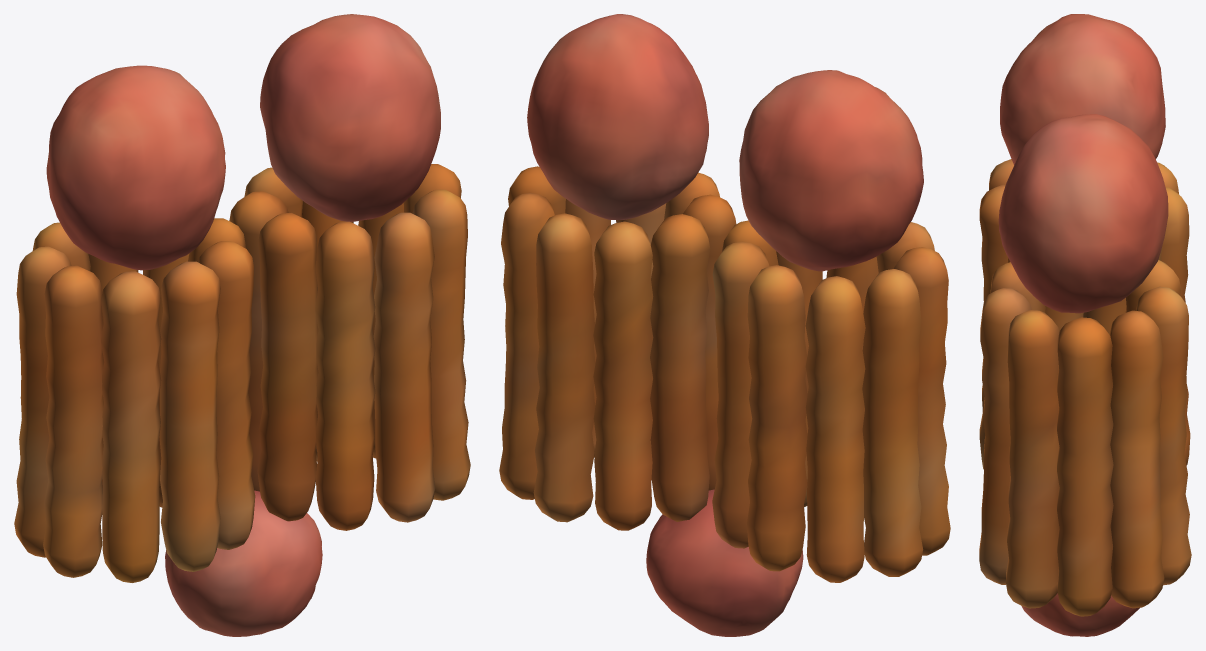
Rendered from etc-complex-3.glb.
3 renders of one model, left to right at view 1: azimuth 30°, elevation 25°; view 2: azimuth 150°, elevation 25°; view 3: azimuth 270°, elevation 25°, orthographic. The views are drawn at different scales.
Visible parts, largest first — view 1: etc-complex-3-transmembrane, etc-complex-3-lobes; view 2: etc-complex-3-transmembrane, etc-complex-3-lobes; view 3: etc-complex-3-transmembrane, etc-complex-3-lobes.
Boxes of the visible parts, box(x1,y1,x2,y2) form: etc-complex-3-transmembrane: box(14, 164, 470, 582); etc-complex-3-lobes: box(46, 14, 440, 636); etc-complex-3-transmembrane: box(499, 166, 950, 582); etc-complex-3-lobes: box(527, 14, 923, 636); etc-complex-3-transmembrane: box(979, 159, 1191, 616); etc-complex-3-lobes: box(998, 14, 1168, 636).
Size of what is drawn, in the model's own units: 1.59 by 2.09 by 0.7166.
